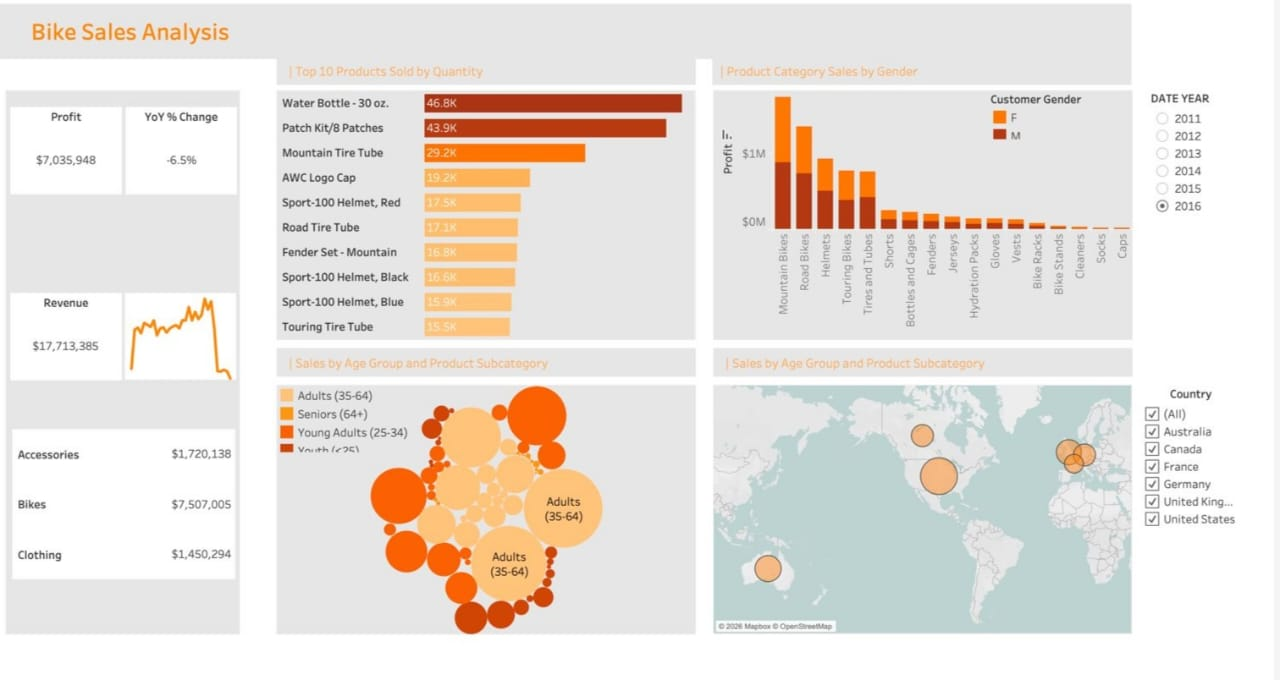

The dashboard page shown, as its layout file describes it:
{"tool":"tableau","page":{"name":"Sales Dashboard","canvas":[1400,750],"ordinal":0},"visuals":[{"type":"title","box":[8,8,1241,68]},{"type":"text","box":[317.3,68.7,455.3,31.6]},{"type":"text","box":[789.6,68.7,455.3,31.6]},{"type":"worksheet","title":"Top 10 Products","mark":"Bar","rows":["Product"],"box":[317.3,105.7,455.3,271.1]},{"type":"worksheet","title":"Sub Category Bar Chart ","mark":"Automatic","rows":["Profit"],"cols":["Sub_Category"],"box":[790.6,105.7,455.3,271.1]},{"type":"parameter","param":"[Parameters].[Parameter 1]","box":[1266,105.7,120.9,190.7]},{"type":"legend","title":"Sub Category Bar Chart ","param":"[federated.1uhaebu05e61gt1ad8c5h1yjvo3l].[none:Customer_Gender:nk]","box":[1091.8,106.6,140,52.4]},{"type":"worksheet","title":"Profit Card","mark":"Automatic","cols":["Calculation_0452956817235969"],"box":[28.2,123.8,120.9,94.9]},{"type":"worksheet","title":"YoY %change","mark":"Automatic","cols":["Calculation_0452956822155273"],"box":[153.1,123.8,120.9,94.9]},{"type":"worksheet","title":"Revenue Card","mark":"Automatic","cols":["Calculation_0452956823531530"],"box":[28.2,326.2,120.9,94.9]},{"type":"worksheet","title":"Revenue Line Chart","mark":"Automatic","rows":["Revenue"],"cols":["Date"],"box":[152.1,326.2,120.9,94.9]},{"type":"text","box":[317.3,385.8,455.3,31.6]},{"type":"text","box":[790.6,385.8,455.3,31.6]},{"type":"worksheet","title":"Age Group Bubble Chart","mark":"Circle","box":[317.3,425.6,455.3,271.1]},{"type":"worksheet","title":"Map","mark":"Automatic","box":[790.6,425.6,455.3,271.1]},{"type":"legend","title":"Age Group Bubble Chart","param":"[federated.1uhaebu05e61gt1ad8c5h1yjvo3l].[none:Age_Group:nk]","box":[318.3,426.5,168.2,72.3]},{"type":"filter","title":"Age Group Bubble Chart","param":"[federated.1uhaebu05e61gt1ad8c5h1yjvo3l].[none:Country:nk]","box":[1254,426.5,110.8,164.5]},{"type":"worksheet","title":"Cost Card","mark":"Automatic","rows":["Product_Category"],"box":[30.2,474.4,241.7,162.7]}]}

Visuals, with their boxes in screenshot pixels (x1, y1, x2, y2), scaled from the page's 1400x750 canvas onto the 1280x680 screenshot:
title: pyautogui.locateOnScreen(7, 7, 1142, 69)
text: pyautogui.locateOnScreen(290, 62, 706, 91)
text: pyautogui.locateOnScreen(722, 62, 1138, 91)
"Top 10 Products" worksheet (Bar marks): pyautogui.locateOnScreen(290, 96, 706, 342)
"Sub Category Bar Chart " worksheet: pyautogui.locateOnScreen(723, 96, 1139, 342)
parameter: pyautogui.locateOnScreen(1157, 96, 1268, 269)
"Sub Category Bar Chart " legend: pyautogui.locateOnScreen(998, 97, 1126, 144)
"Profit Card" worksheet: pyautogui.locateOnScreen(26, 112, 136, 198)
"YoY %change" worksheet: pyautogui.locateOnScreen(140, 112, 251, 198)
"Revenue Card" worksheet: pyautogui.locateOnScreen(26, 296, 136, 382)
"Revenue Line Chart" worksheet: pyautogui.locateOnScreen(139, 296, 250, 382)
text: pyautogui.locateOnScreen(290, 350, 706, 378)
text: pyautogui.locateOnScreen(723, 350, 1139, 378)
"Age Group Bubble Chart" worksheet (Circle marks): pyautogui.locateOnScreen(290, 386, 706, 632)
"Map" worksheet: pyautogui.locateOnScreen(723, 386, 1139, 632)
"Age Group Bubble Chart" legend: pyautogui.locateOnScreen(291, 387, 445, 452)
"Age Group Bubble Chart" filter: pyautogui.locateOnScreen(1147, 387, 1248, 536)
"Cost Card" worksheet: pyautogui.locateOnScreen(28, 430, 249, 578)
